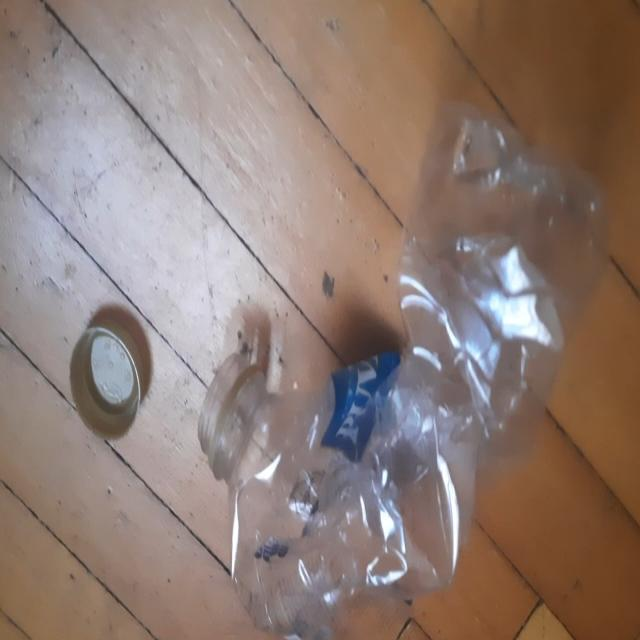Plastic: (198, 103, 610, 636)
